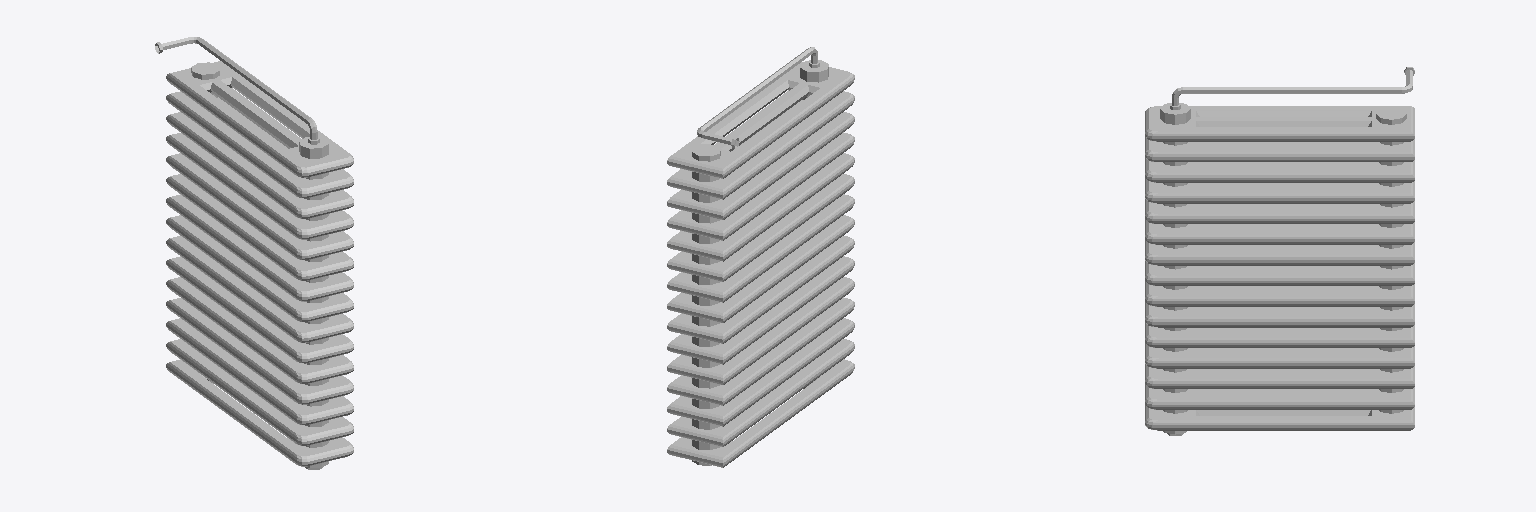
File: radiator01a.obj
The picture shows the model from 3 angles: view 1: azimuth 30°, elevation 25°; view 2: azimuth 150°, elevation 25°; view 3: azimuth 270°, elevation 25°; orthographic projection.
Visible parts, largest first — view 1: radiator01a; view 2: radiator01a; view 3: radiator01a.
Boxes of the visible parts, box(x1,y1,x2,y2) form: radiator01a: box(155, 37, 353, 469); radiator01a: box(667, 47, 854, 467); radiator01a: box(1145, 67, 1414, 435).
Bounding box in the file's own units: 10.28 × 50.27 × 35.68.